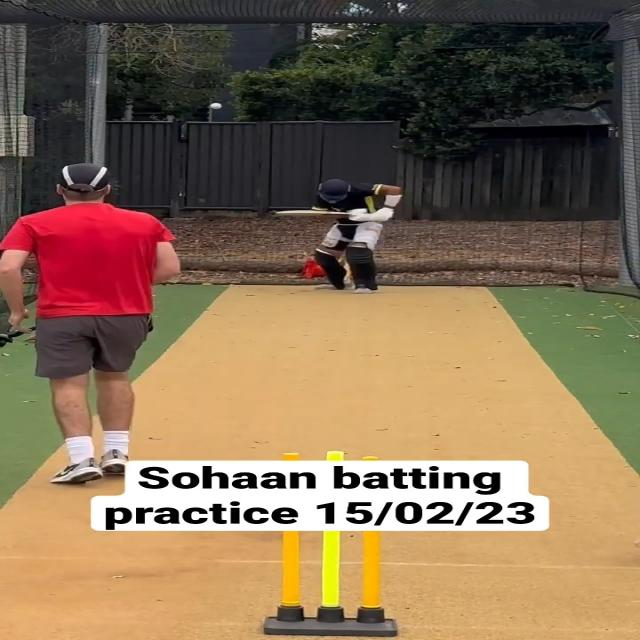ball: (210, 102, 222, 110)
stump: (264, 531, 396, 640)
